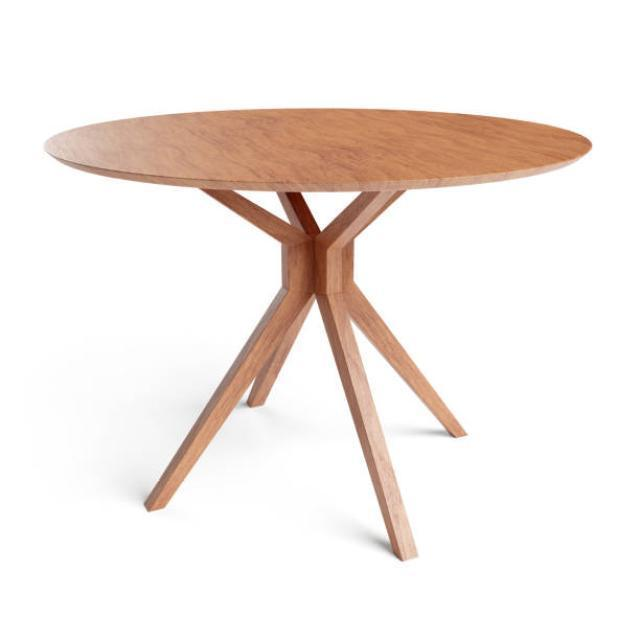table: (43, 106, 592, 562)
